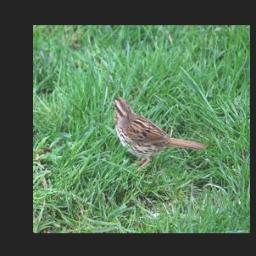Sparrow: (109, 93, 208, 171)
